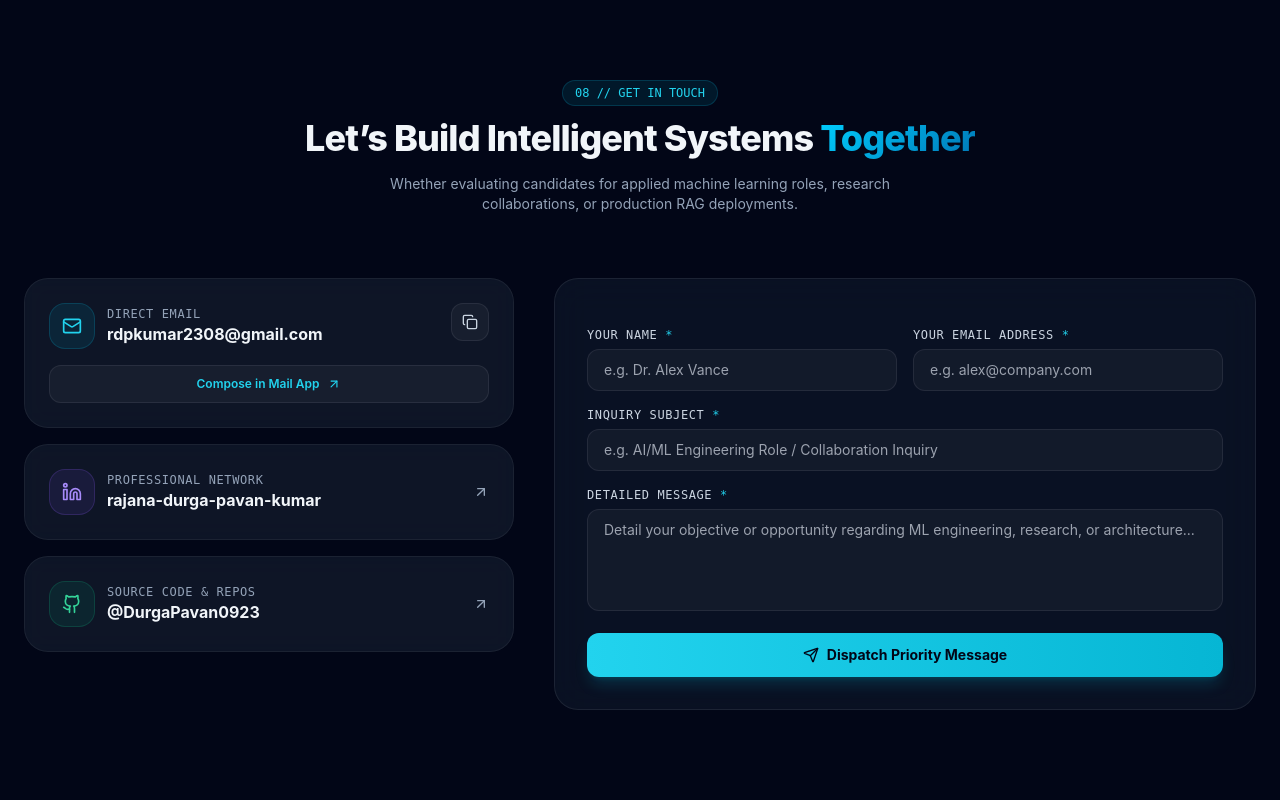
Test: Contact Component › submits successfully when valid data is entered
In the field with placeholder "e.g. Dr. Alex Vance": (742, 370) top-left (587, 349), bottom-right (897, 391), type "Dr. Bruce Banner"
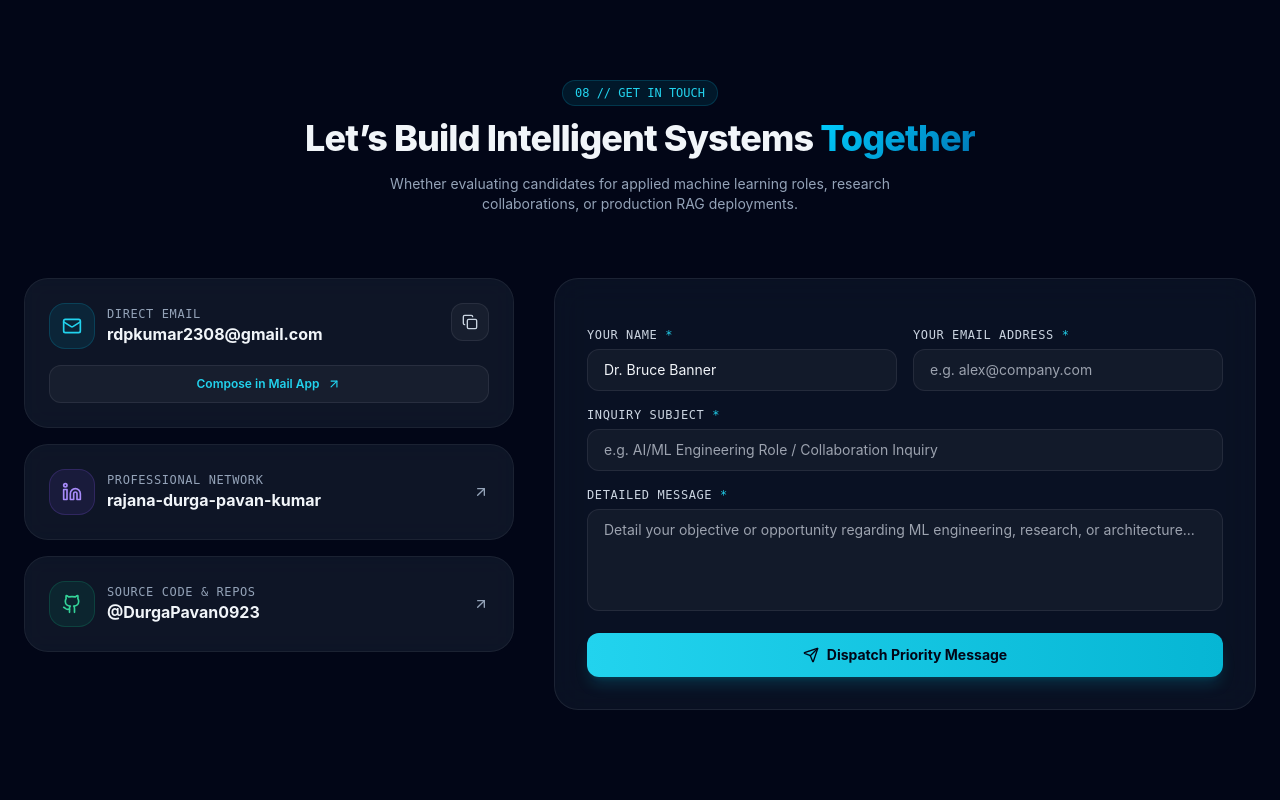
In the field with placeholder "e.g. alex@company.com": (1068, 370) top-left (913, 349), bottom-right (1223, 391), type "banner@avengers.org"
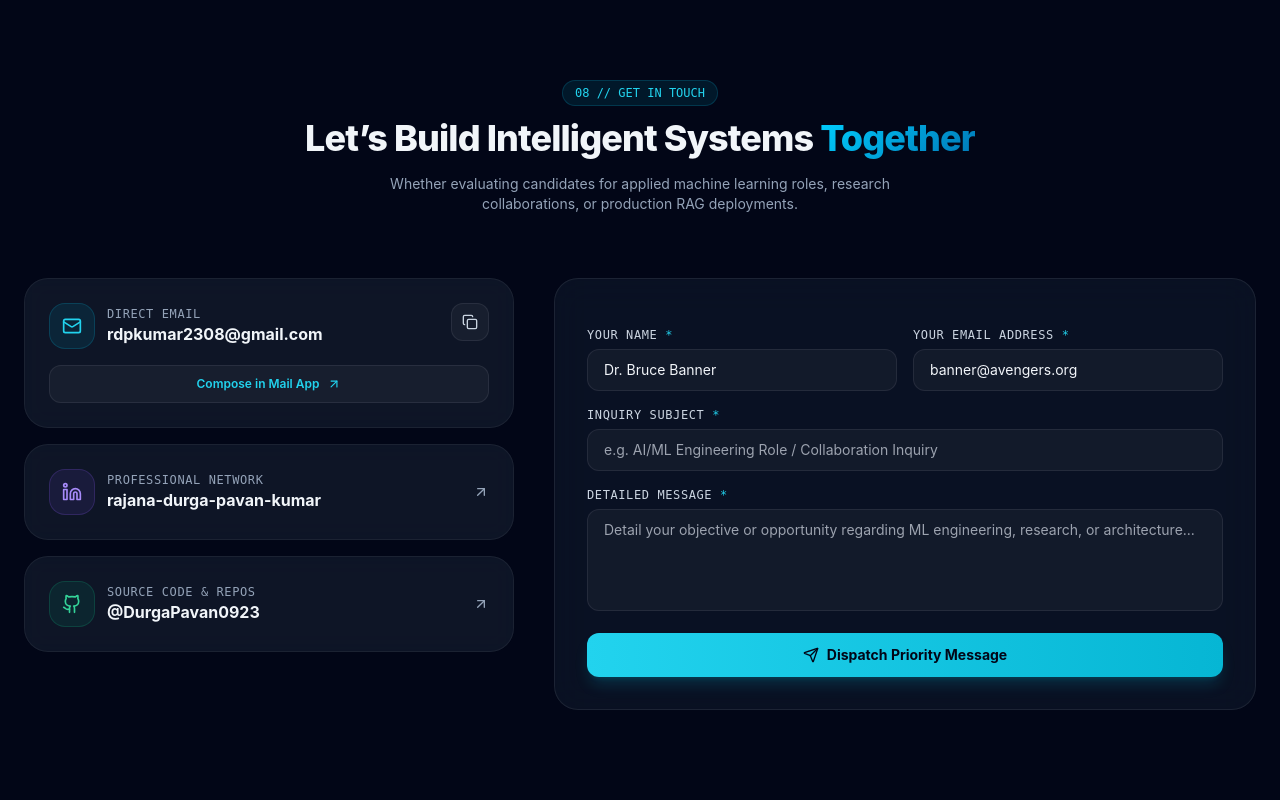
In the field with placeholder "e.g. AI/ML Engineering Role / Collaboration Inquiry": (905, 450) top-left (587, 429), bottom-right (1223, 471), type "Senior AI Research Engineer"
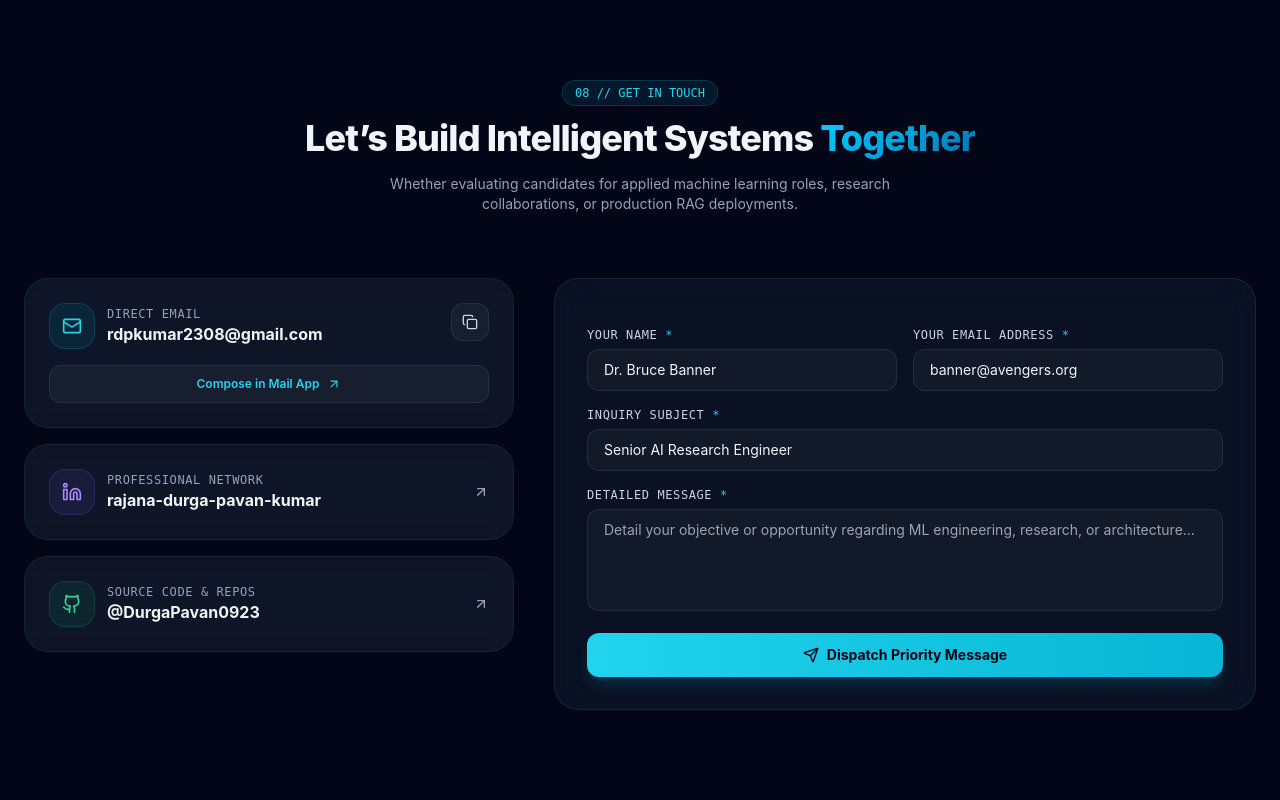
Replace the text in the text box with placeholder "Detail your objective" with "We would love to discuss a RAG architecture position with you.": (905, 560) top-left (587, 509), bottom-right (1223, 611)
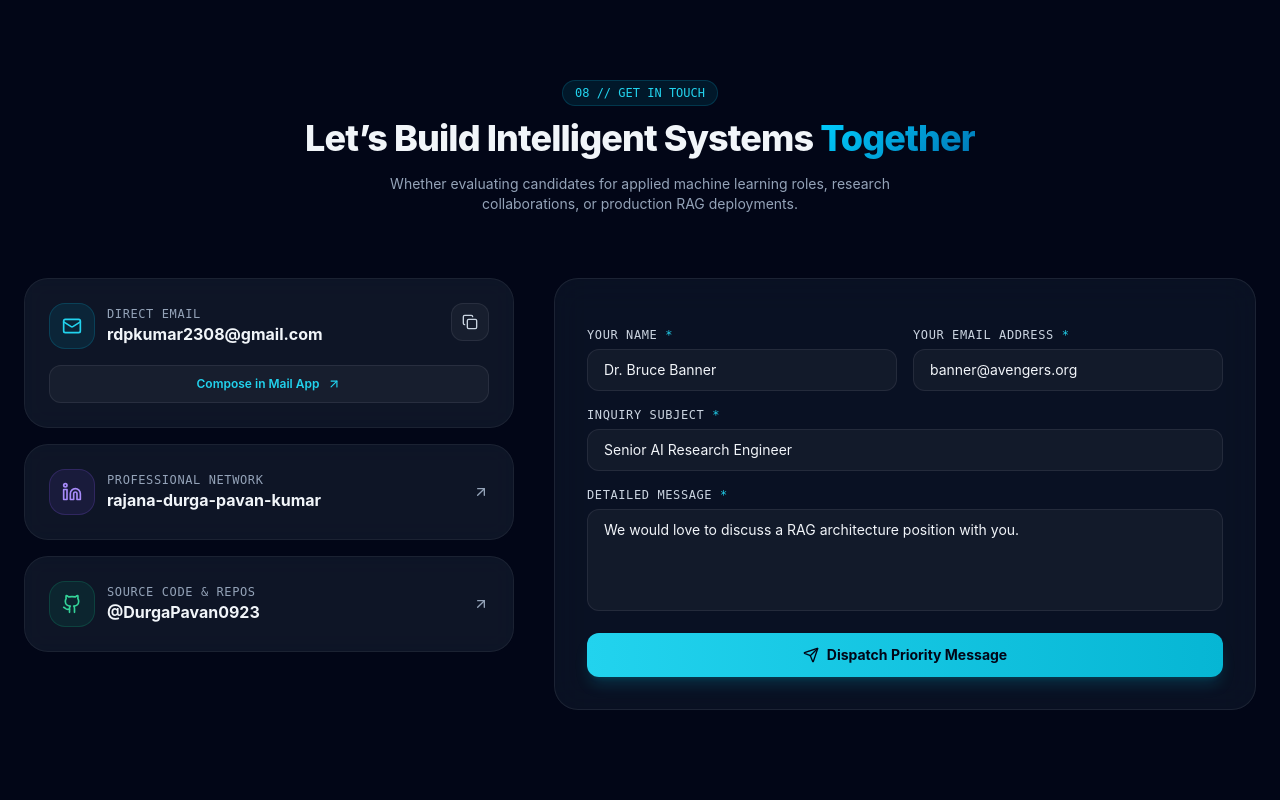
Click the button "Dispatch Priority Message": (905, 655) top-left (587, 633), bottom-right (1223, 677)
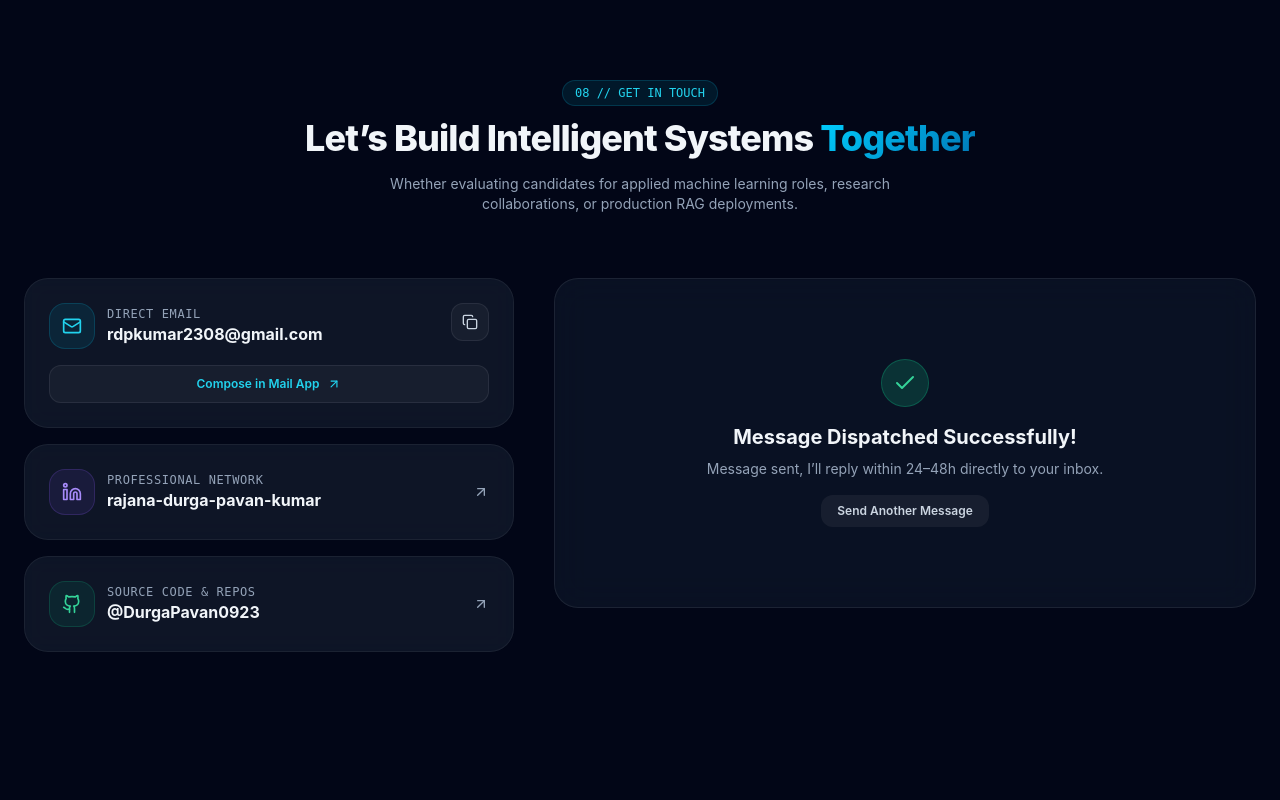
Now the heading "Message Dispatched Successfully!" is shown, box top-left (733, 423), bottom-right (1077, 451)
